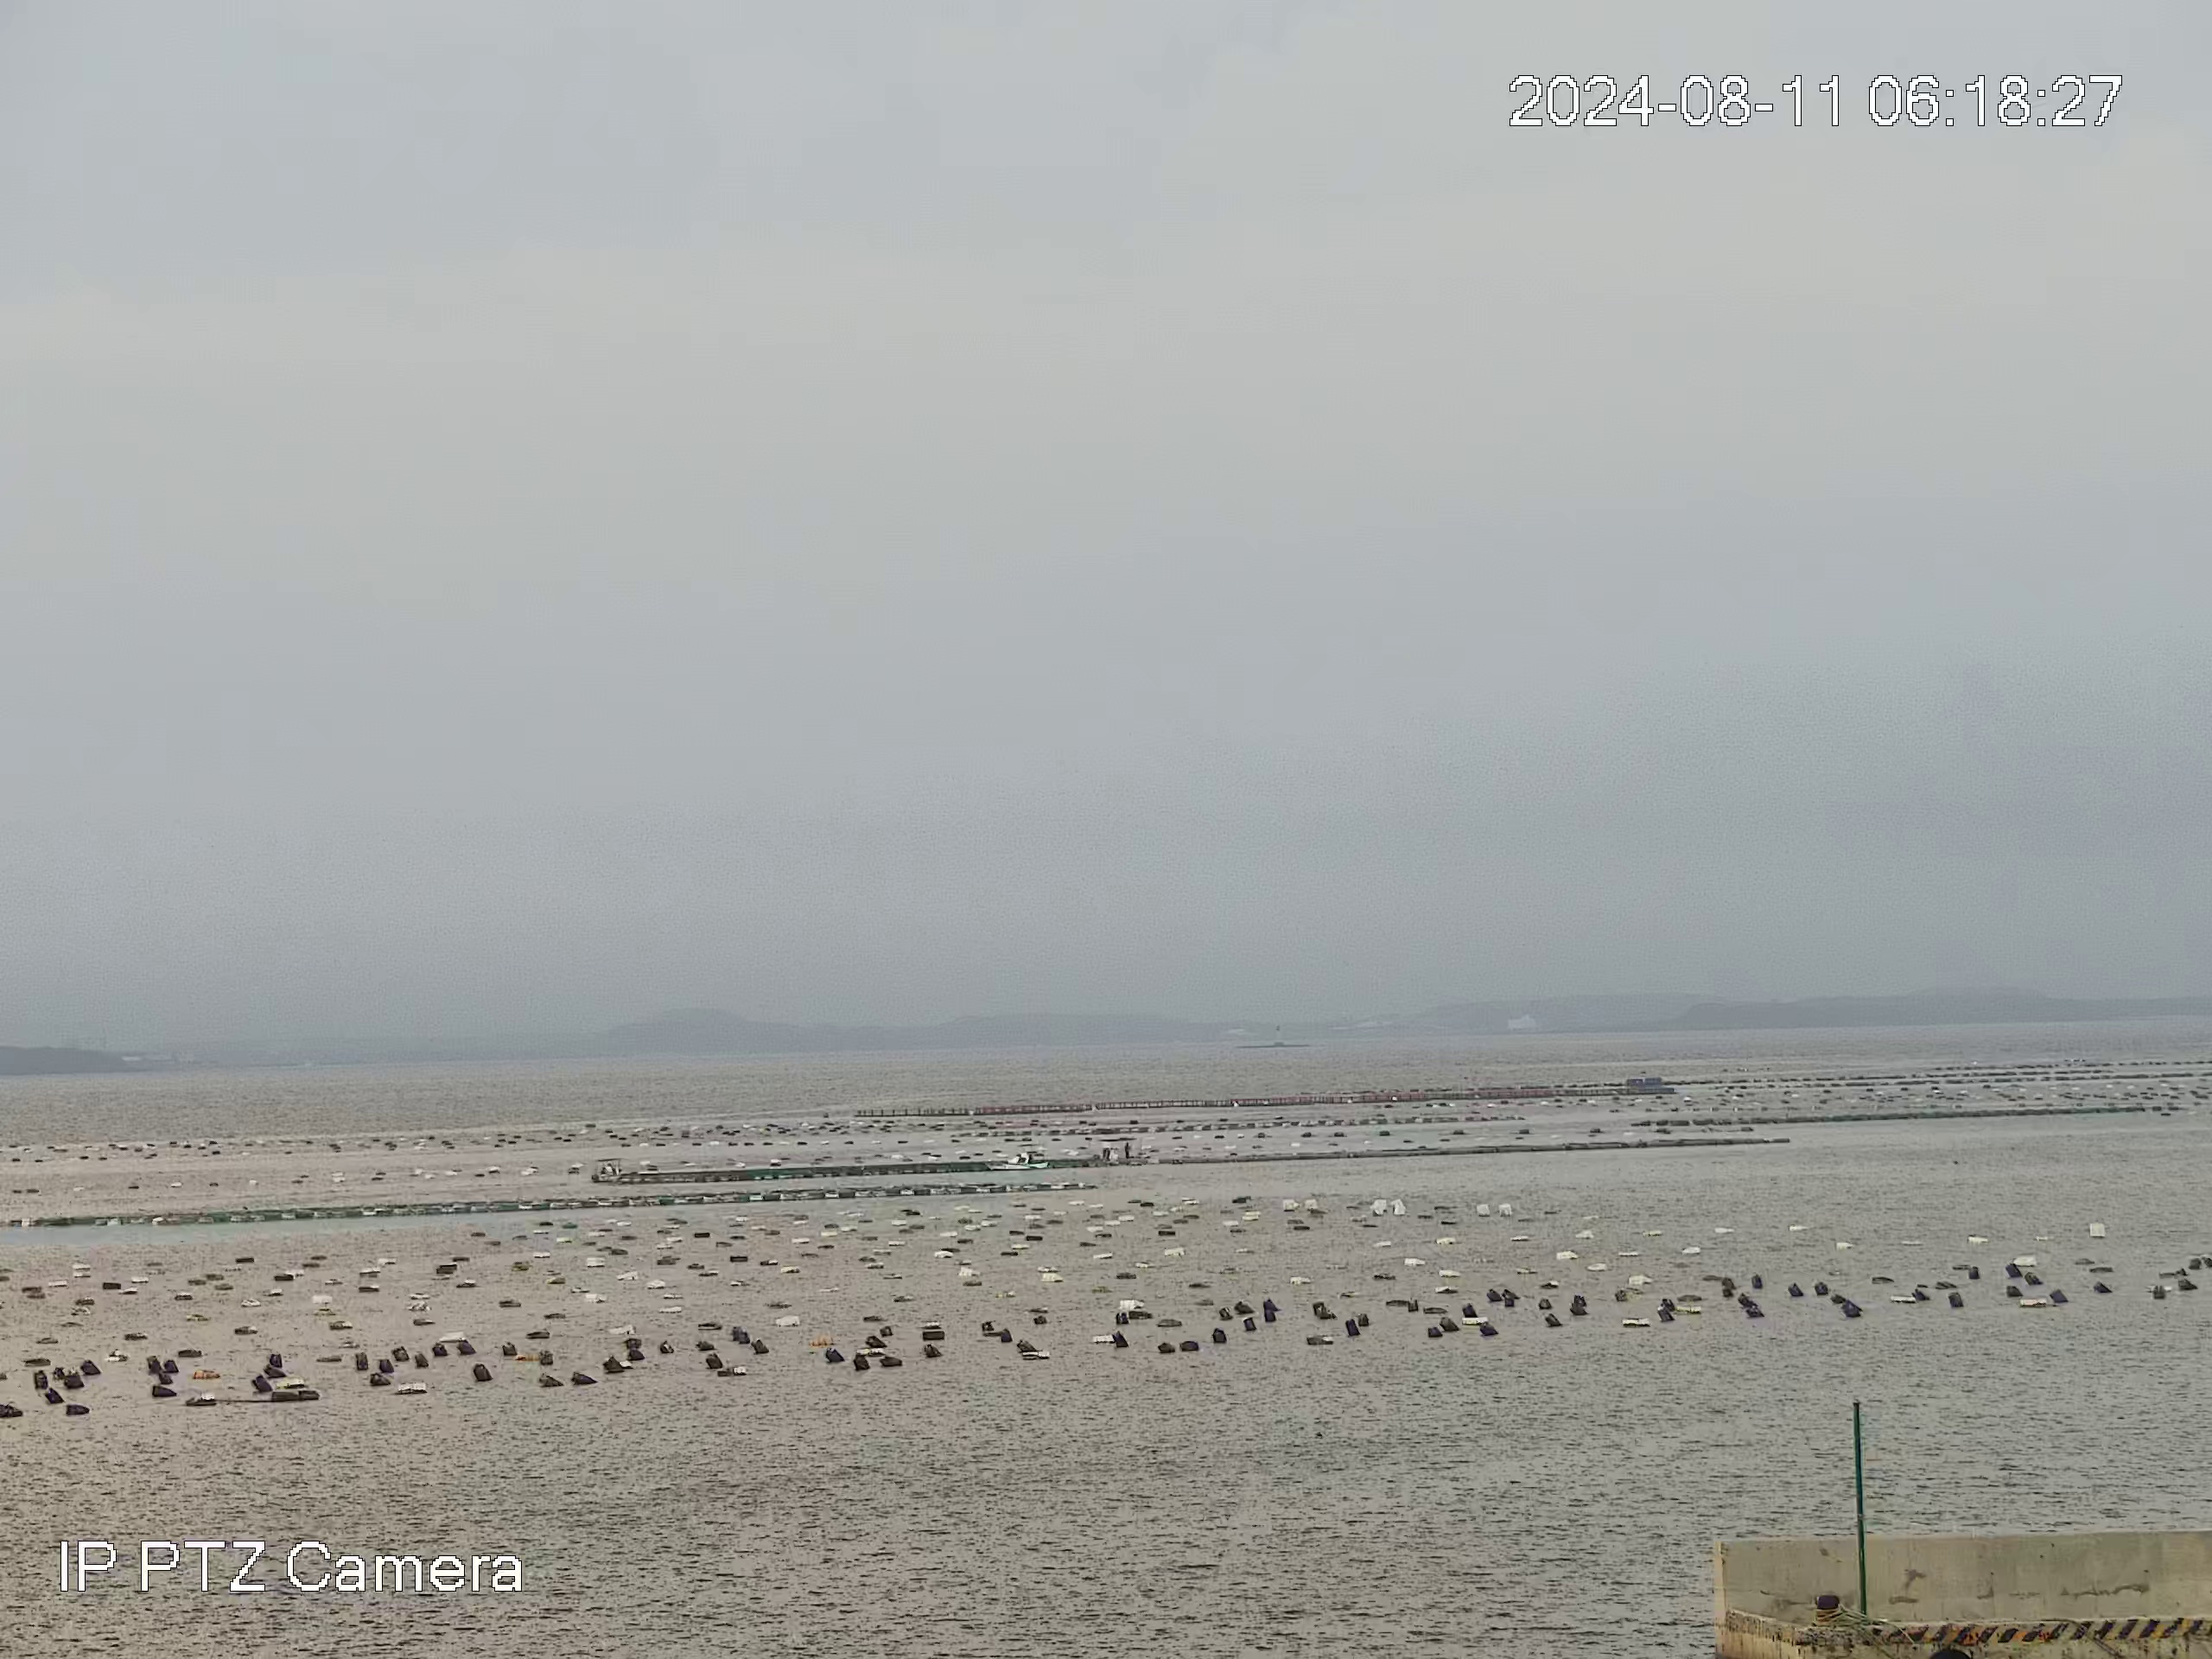boat: (981, 1141, 1050, 1173), (589, 1155, 625, 1185)
